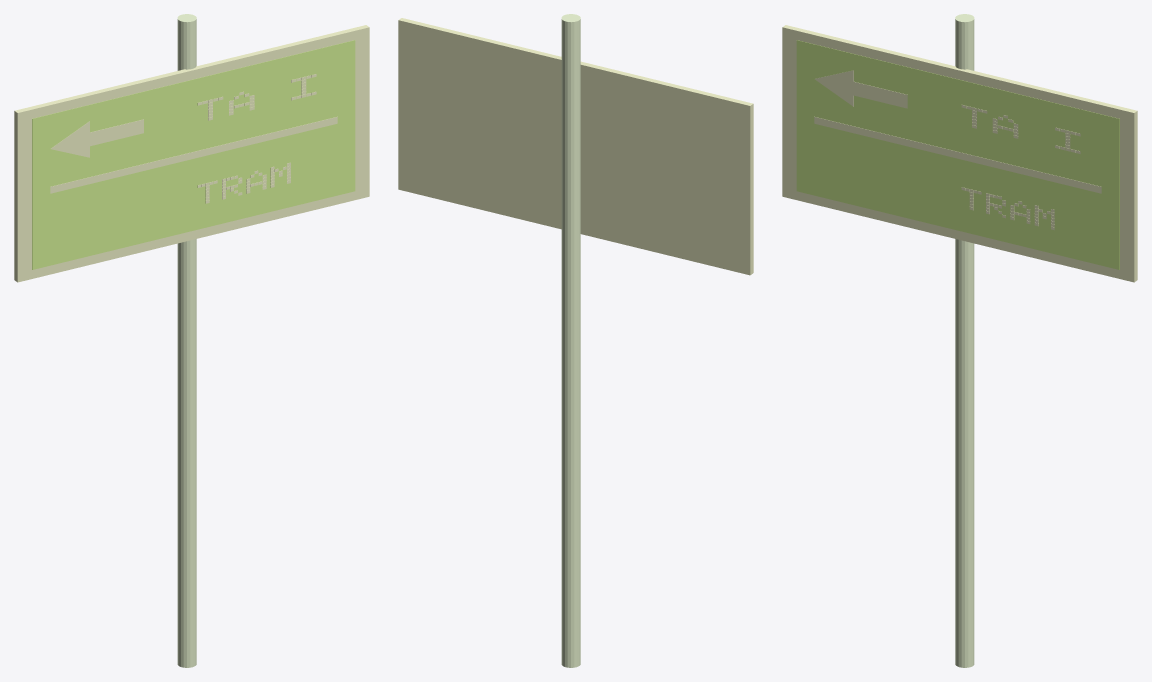
The model's file is sign_destination_stack_tram_taxi_left.glb.
The picture shows the model from 3 angles, left to right: view 1: azimuth 30°, elevation 25°; view 2: azimuth 150°, elevation 25°; view 3: azimuth 330°, elevation 25°; orthographic projection.
Parts seen in each view (by area): view 1: layer_1_00, plate_base_00, pole, layer_2_00, layer_2_106, layer_2_107; view 2: plate_base_00, pole; view 3: layer_1_00, plate_base_00, pole, layer_2_00, layer_2_106, layer_2_107.
Part boxes in pixels (<box>): layer_1_00: <box>32,40,355,269</box>; plate_base_00: <box>14,25,369,282</box>; pole: <box>177,14,196,667</box>; layer_2_00: <box>50,116,337,193</box>; layer_2_106: <box>90,119,143,146</box>; layer_2_107: <box>51,121,89,157</box>; plate_base_00: <box>398,18,753,275</box>; pole: <box>561,14,580,667</box>; layer_1_00: <box>796,40,1119,269</box>; plate_base_00: <box>782,25,1137,282</box>; pole: <box>955,14,974,667</box>; layer_2_00: <box>814,116,1101,193</box>; layer_2_106: <box>853,81,907,108</box>; layer_2_107: <box>814,70,853,106</box>.
Bounding box in the file's own units: 1.25 × 2.2 × 0.0725.
